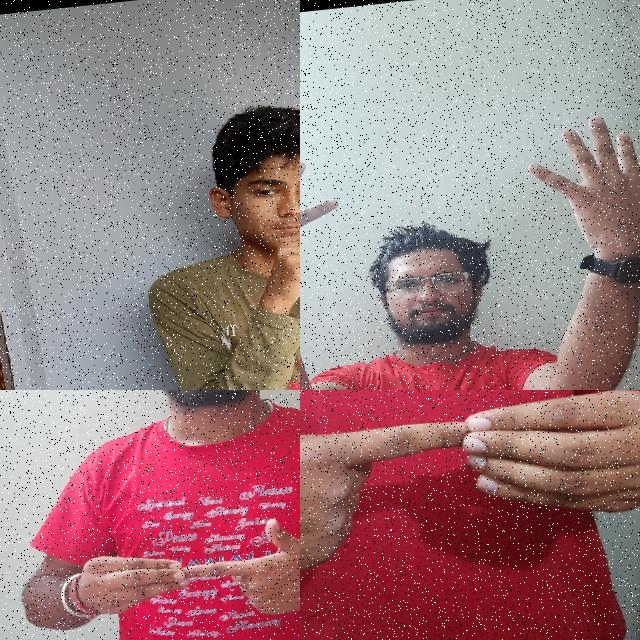Fist Mouth: (187, 88, 300, 331)
Five Fathers: (300, 390, 640, 591), (59, 502, 300, 640)
Moutza: (517, 103, 640, 278), (300, 131, 359, 322)
